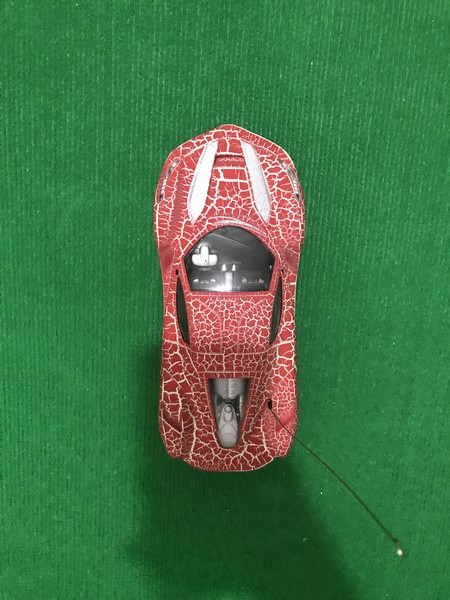RC: (151, 122, 309, 475)
